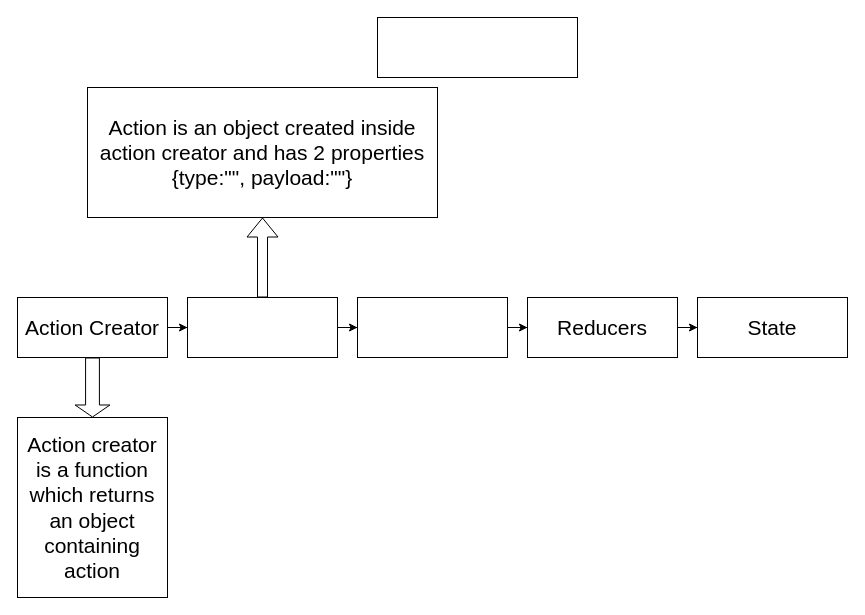
Image size: 865x615. Some labels were removed from this diagram. The box of each missing label's shape, as (x1, y1, x2, y2) in pixels:
Action: (186, 296, 338, 358)
Dispatch: (356, 296, 508, 358)
Redux Cycle: (376, 16, 578, 78)
